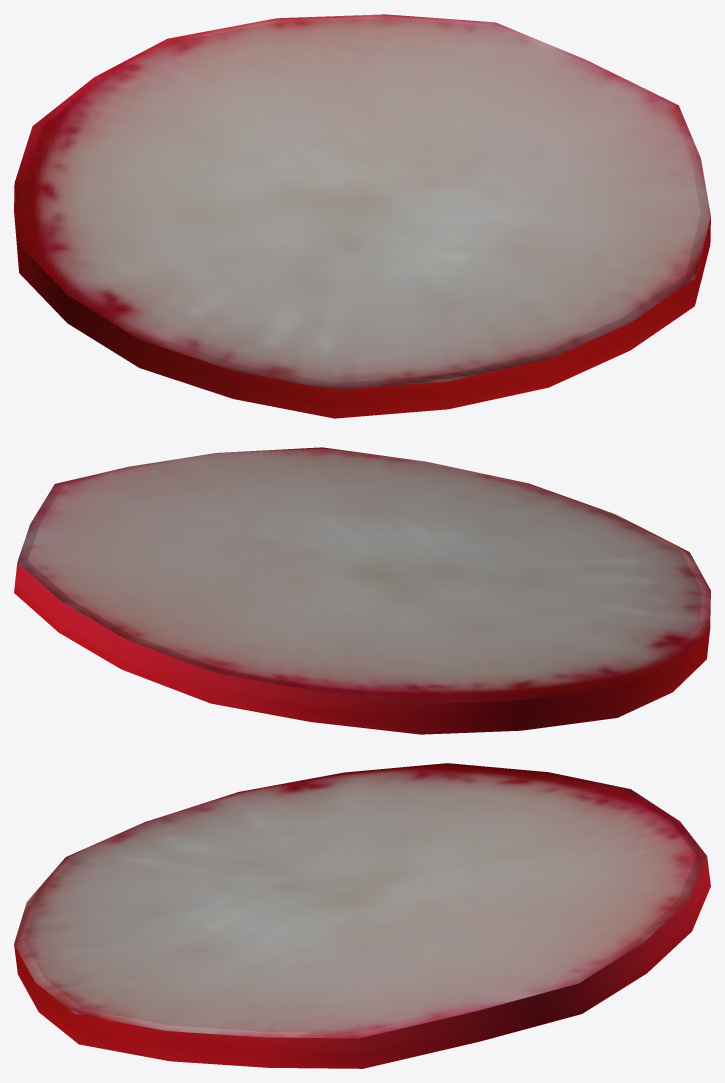
File: Rabano.obj
3 views of the same model, one above another, from view 1: azimuth 30°, elevation 25°; view 2: azimuth 150°, elevation 25°; view 3: azimuth 270°, elevation 25° (orthographic).
Visible parts, largest first — view 1: salad_plate_for_restaurent_ar:Mesh polySurface15, salad_plate_for_restaurent_ar:Mesh polySurface16; view 2: salad_plate_for_restaurent_ar:Mesh polySurface15, salad_plate_for_restaurent_ar:Mesh polySurface16; view 3: salad_plate_for_restaurent_ar:Mesh polySurface15, salad_plate_for_restaurent_ar:Mesh polySurface16.
Part boxes in pixels (box(x1,y1,x2,y2)): salad_plate_for_restaurent_ar:Mesh polySurface15: box(14, 14, 710, 390); salad_plate_for_restaurent_ar:Mesh polySurface16: box(14, 185, 710, 418); salad_plate_for_restaurent_ar:Mesh polySurface15: box(17, 447, 710, 703); salad_plate_for_restaurent_ar:Mesh polySurface16: box(14, 562, 709, 734); salad_plate_for_restaurent_ar:Mesh polySurface15: box(14, 763, 706, 1038); salad_plate_for_restaurent_ar:Mesh polySurface16: box(14, 856, 710, 1068).
Size of the model in its own units: 1.1 by 0.1884 by 1.08.
1 material, 1 textured.
